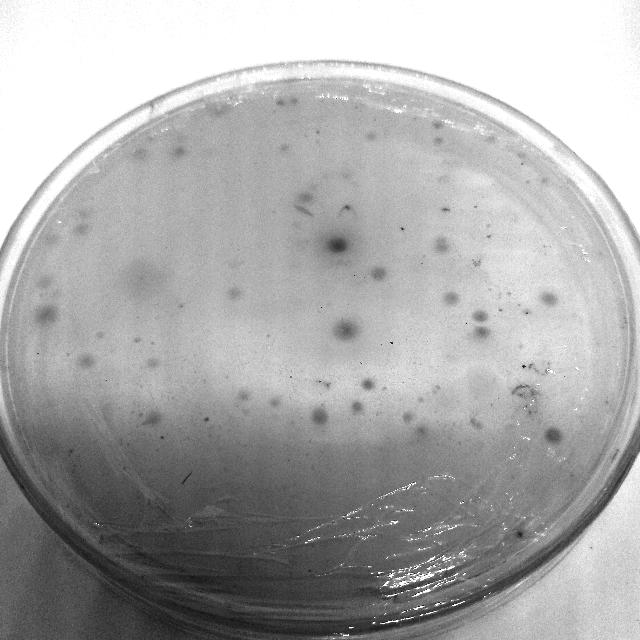colony: (116, 254, 170, 306), (324, 230, 354, 262), (229, 550, 261, 580), (332, 316, 360, 342), (32, 300, 58, 328), (308, 404, 334, 430), (204, 98, 232, 122), (35, 228, 63, 252), (139, 406, 165, 429), (222, 285, 245, 309), (543, 425, 565, 449), (128, 144, 152, 166), (32, 271, 56, 293), (428, 233, 452, 254), (440, 288, 460, 310), (538, 287, 560, 307), (224, 253, 246, 273), (78, 352, 98, 373), (368, 264, 390, 282), (348, 398, 367, 417), (294, 186, 314, 204), (470, 306, 490, 324), (359, 376, 379, 394), (168, 142, 188, 160), (76, 204, 94, 224), (413, 422, 431, 441), (471, 324, 491, 341), (466, 416, 486, 432), (144, 354, 162, 371), (399, 408, 418, 424), (435, 171, 453, 187), (74, 220, 90, 238), (510, 526, 530, 540), (536, 172, 552, 188), (234, 388, 250, 404), (265, 392, 281, 408), (438, 204, 456, 218), (338, 200, 356, 213), (429, 118, 445, 132), (339, 168, 355, 182), (273, 94, 287, 108), (288, 93, 302, 107), (364, 130, 378, 144), (470, 256, 484, 270), (512, 146, 526, 160), (238, 403, 252, 417), (276, 141, 292, 153), (520, 306, 536, 318), (320, 380, 336, 392), (432, 134, 444, 148), (94, 328, 106, 342), (64, 444, 78, 456), (175, 183, 188, 195), (415, 394, 427, 406), (418, 250, 430, 262), (132, 334, 144, 346), (134, 408, 146, 418), (156, 433, 168, 443), (483, 221, 493, 231), (202, 414, 212, 424), (496, 306, 508, 314), (519, 362, 529, 371), (397, 224, 407, 233), (504, 288, 514, 296), (484, 232, 494, 240), (472, 202, 481, 210), (524, 177, 532, 186), (518, 160, 528, 167), (516, 300, 524, 308), (286, 373, 294, 381), (388, 339, 396, 346), (148, 338, 156, 344)
